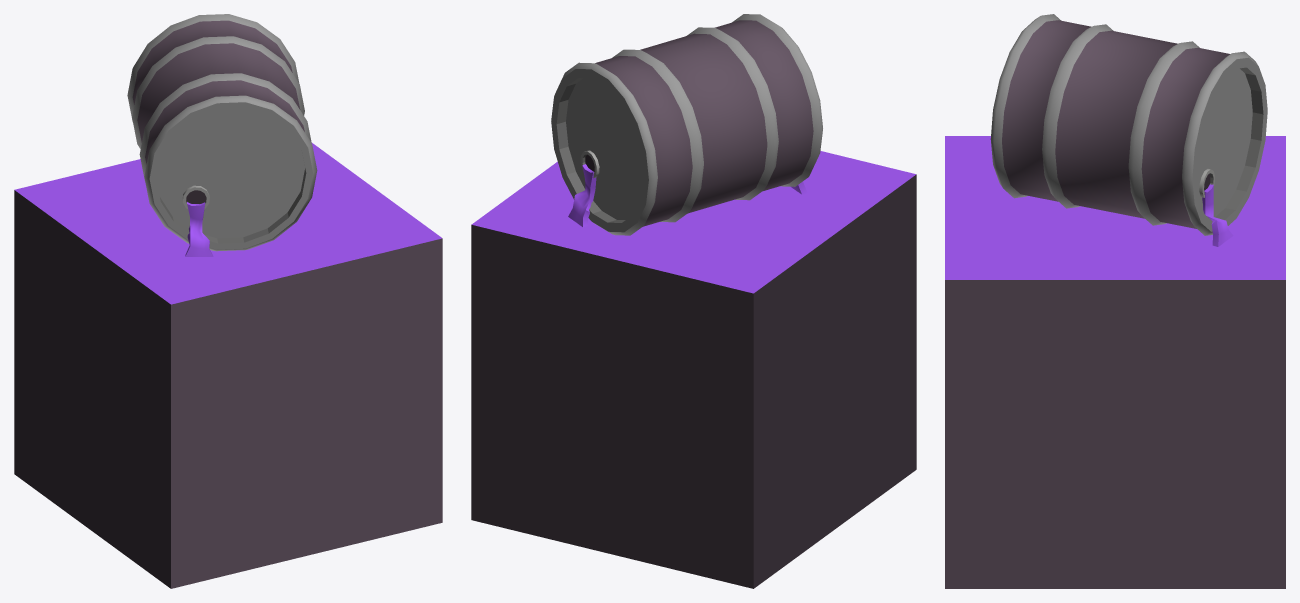
File: tile_obstacle_toxic_barrel01.FBX
3 views of the same model, side by side, from view 1: azimuth 30°, elevation 25°; view 2: azimuth 150°, elevation 25°; view 3: azimuth 270°, elevation 25° (orthographic). The views are drawn at different scales.
Parts seen in each view (by area): view 1: tile_obstacle_toxic_barrel01; view 2: tile_obstacle_toxic_barrel01; view 3: tile_obstacle_toxic_barrel01.
Boxes of the visible parts, x1,y1,x2,y2 form: tile_obstacle_toxic_barrel01: (14,14,442,588); tile_obstacle_toxic_barrel01: (471,14,916,588); tile_obstacle_toxic_barrel01: (945,14,1285,588).
Size of the model in its own units: 39.37 by 60.69 by 39.37.
